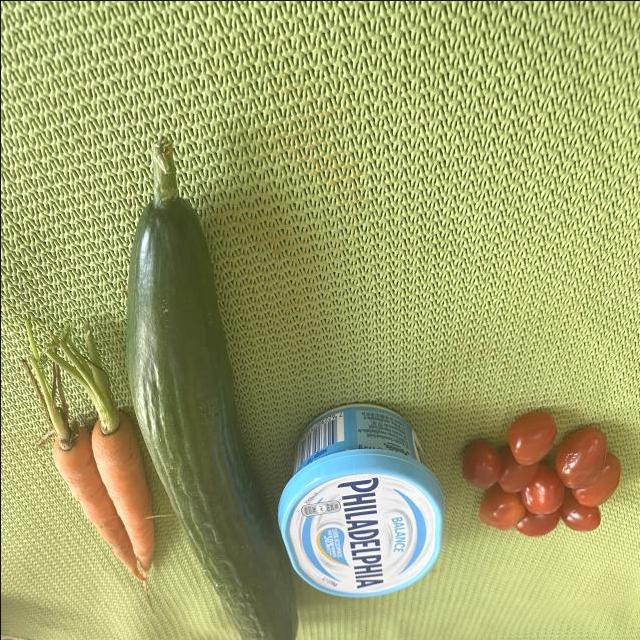carrot: (25, 344, 152, 603), (60, 303, 153, 599)
cucumber: (89, 89, 314, 640)
tomato: (457, 383, 630, 561)
